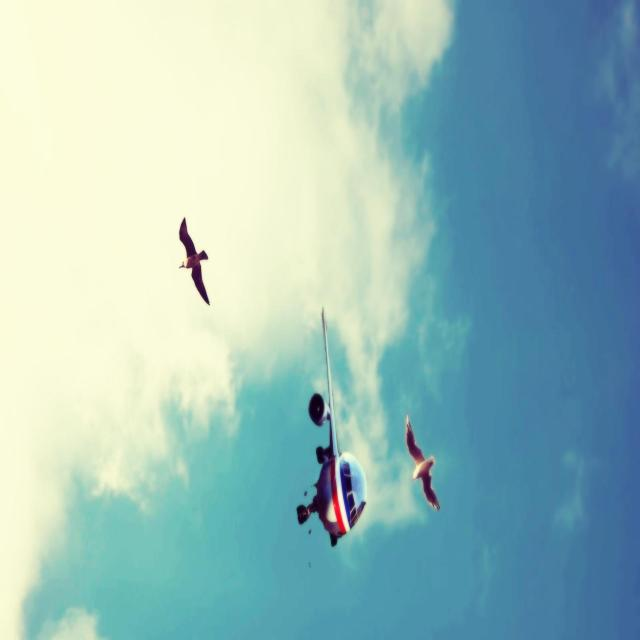airplane: (296, 306, 367, 547)
